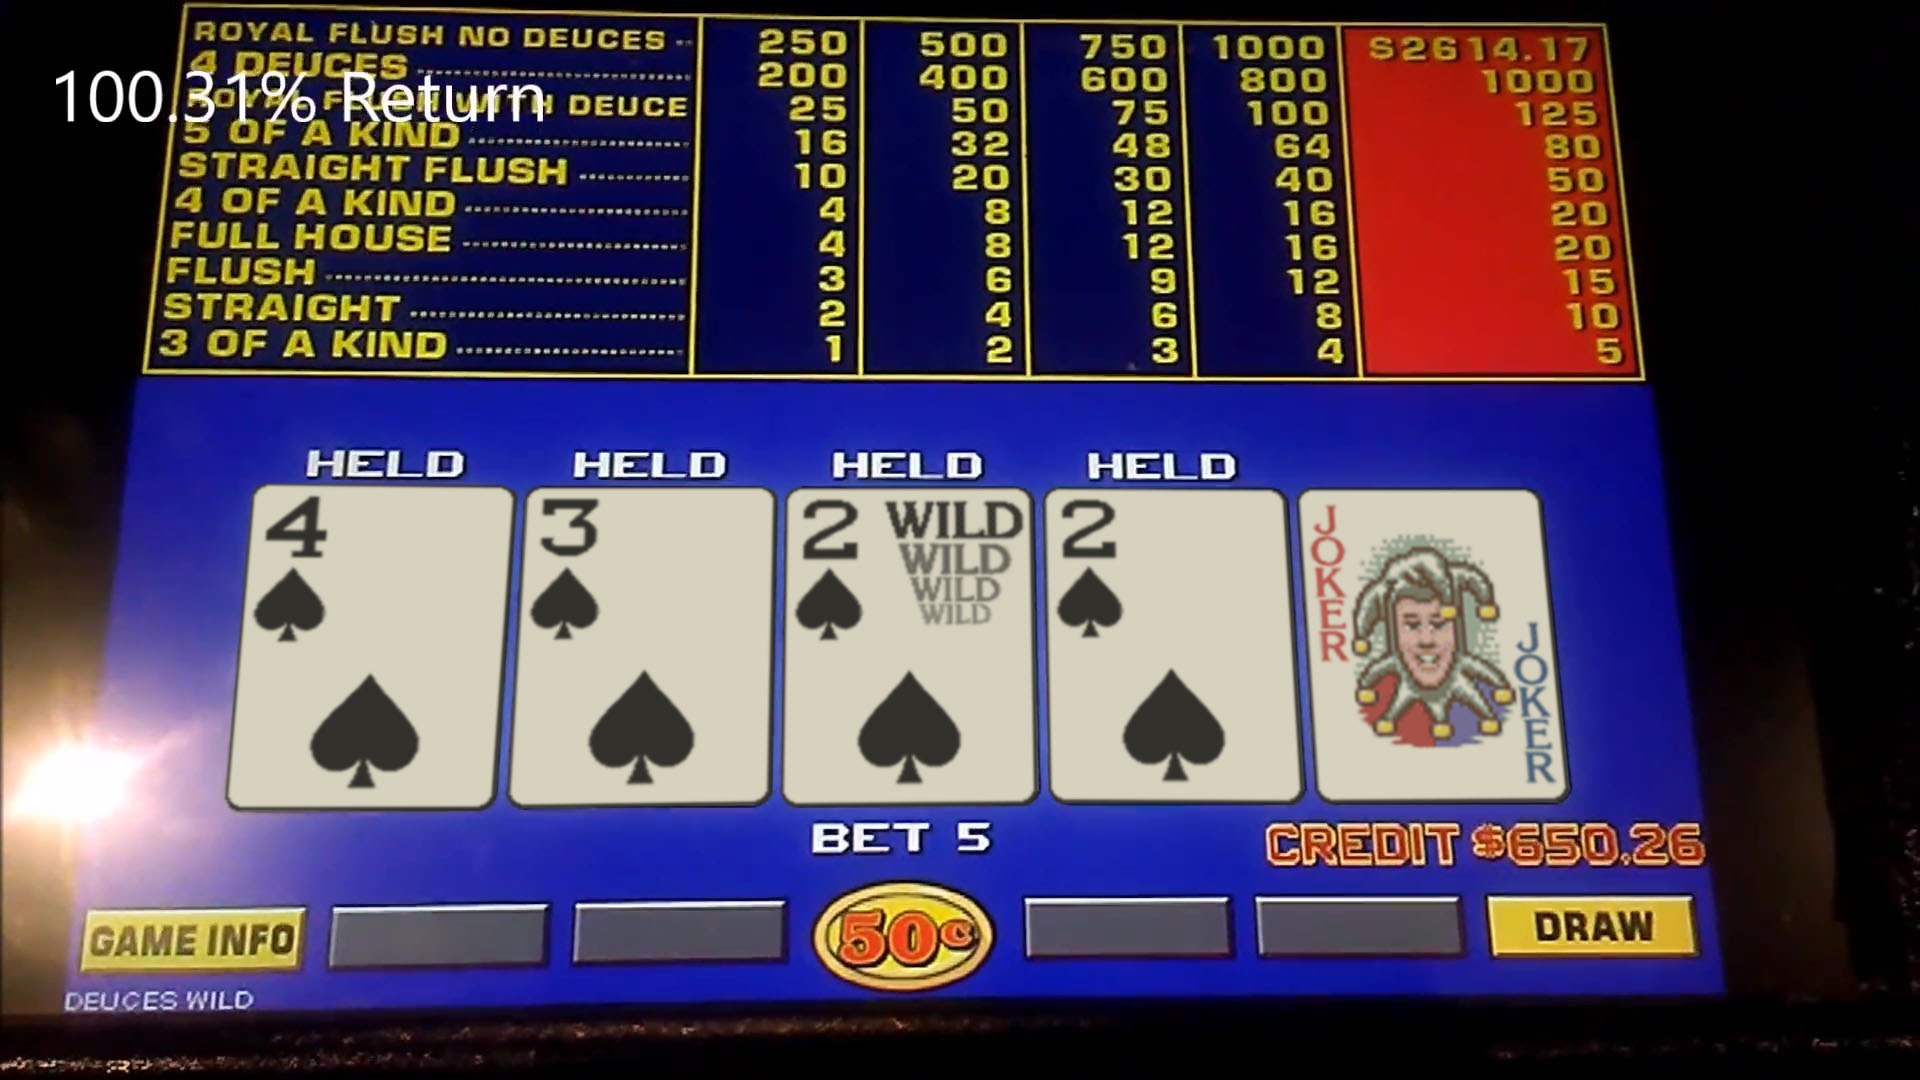S2: (1048, 492, 1287, 640)
S2W: (786, 489, 1030, 644)
S3: (526, 489, 770, 642)
S4: (251, 487, 501, 644)
joker: (1313, 492, 1539, 640)
